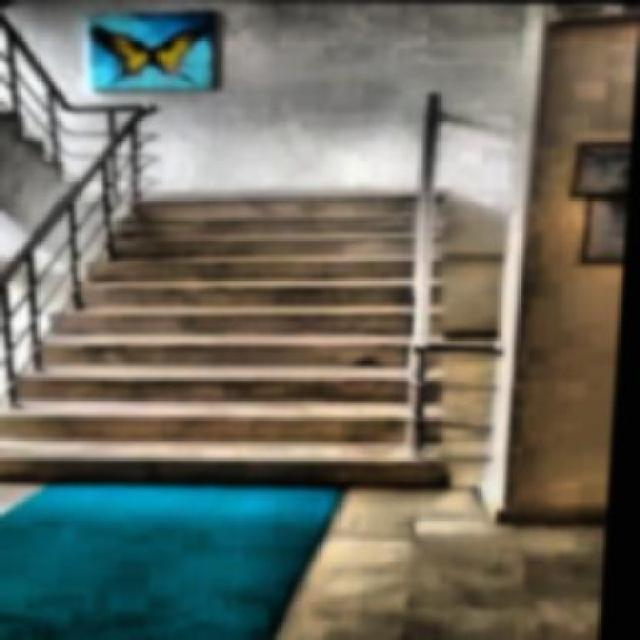stair: (0, 176, 492, 492)
